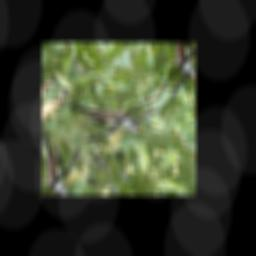Cuckoo: (69, 78, 146, 155)
